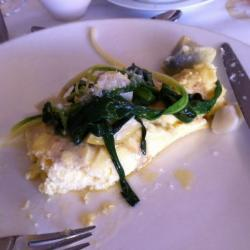omelette: (39, 51, 220, 192)
